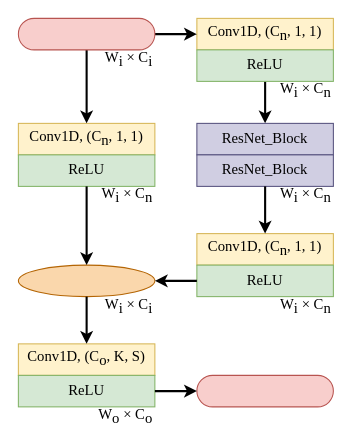
This 352x446 diagram has some shape labels left out. The centre of each missing label's shape, as x and y in pixels:
Concatenate: point (86, 280)
Input: point (86, 33)
Output: point (264, 390)
